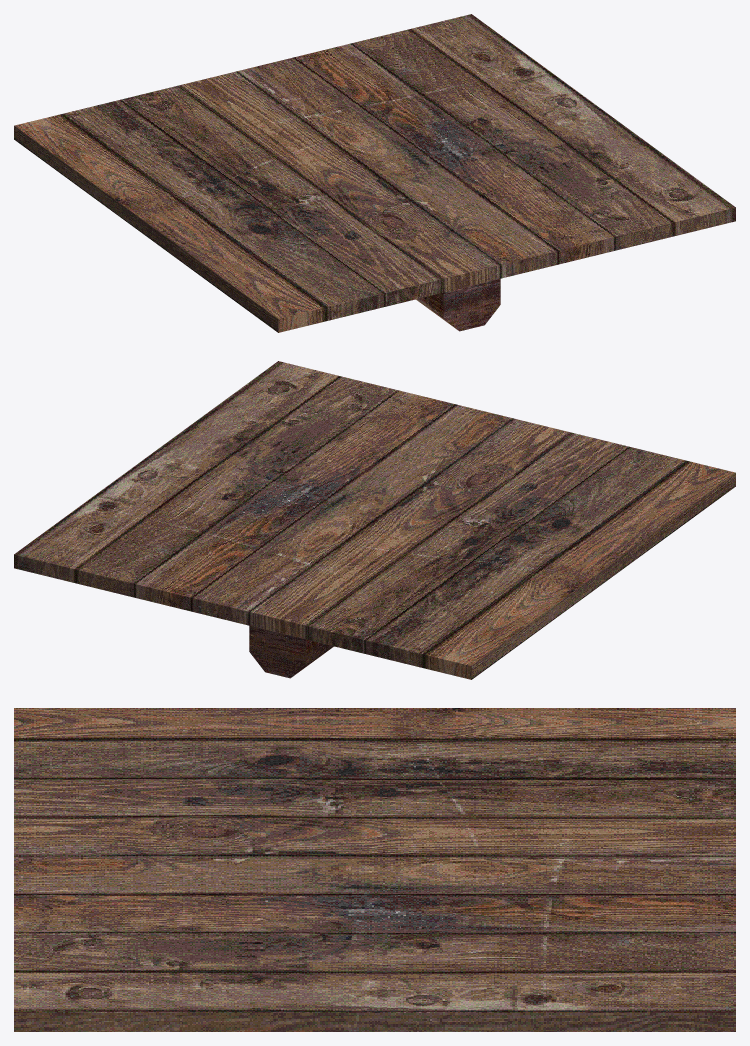
File: ceiling-beamSW.glb
The picture shows the model from 3 angles, top to bottom: view 1: azimuth 30°, elevation 25°; view 2: azimuth 150°, elevation 25°; view 3: azimuth 270°, elevation 25°; orthographic projection. The views are drawn at different scales.
Visible parts, largest first — view 1: ceiling-beamSW.001; view 2: ceiling-beamSW.001; view 3: ceiling-beamSW.001.
Boxes of the visible parts, <box> form: ceiling-beamSW.001: <box>14,14,735,332</box>; ceiling-beamSW.001: <box>14,361,735,679</box>; ceiling-beamSW.001: <box>14,708,735,1031</box>.
Size of the model in its own units: 1.73 by 0.2046 by 1.74.
Materials: 2 (2 with a texture image).
